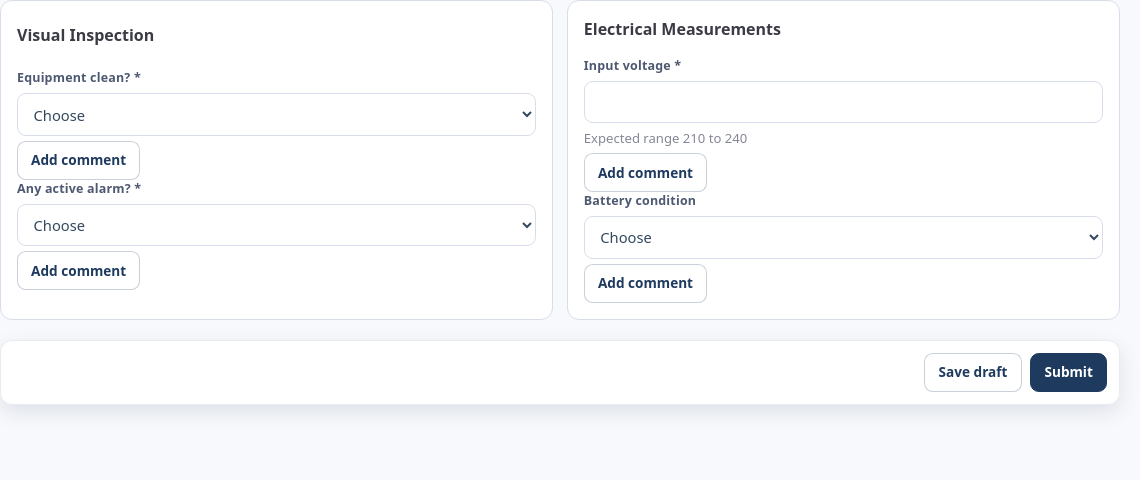
Test: PreventiveExecutionForm › should show conditional comment input when failure requires a comment
Select "No" in the dropdown labelled "Any active alarm? *" at (277, 225), box x1=17 y1=204 x2=536 y2=246
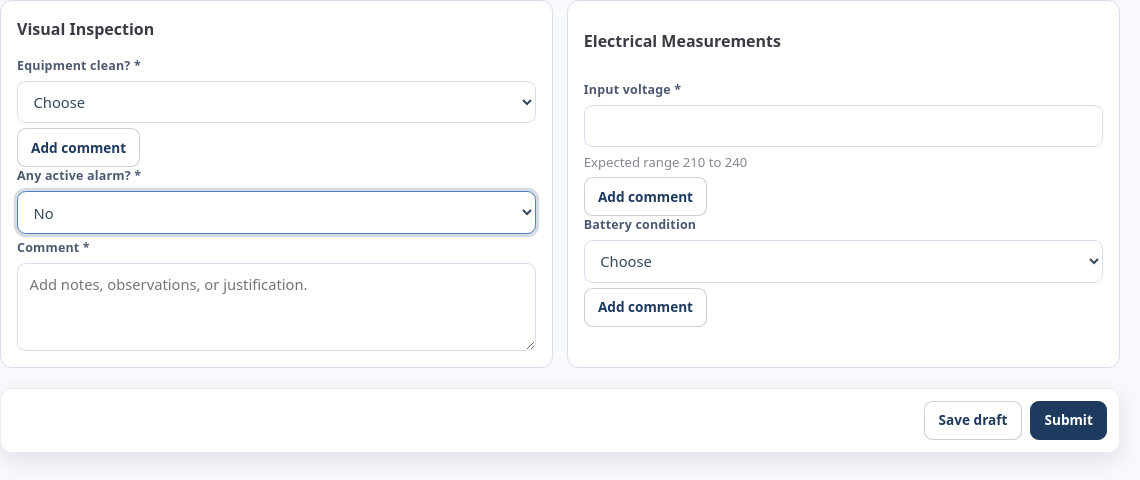
Now the text box labelled "Comment *" is shown, box x1=17 y1=263 x2=536 y2=351
